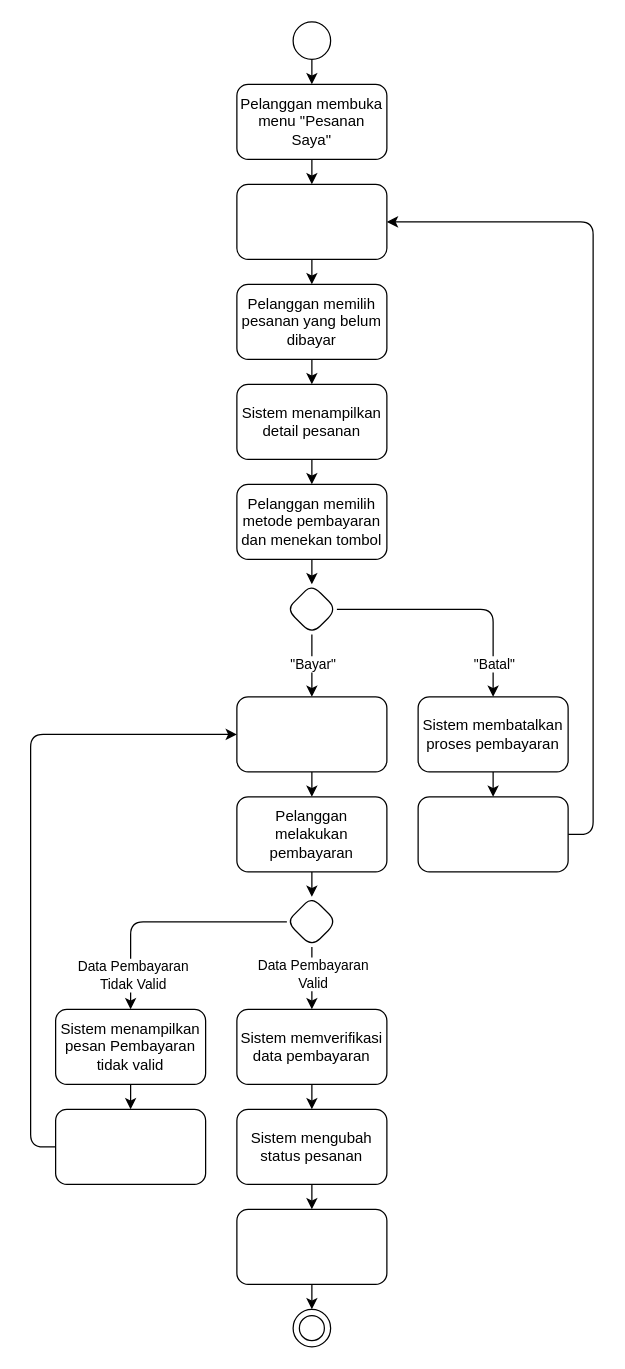
This 625x1369 diagram has some shape labels left out. Here are the shapes that lost their labels. From the top down, the centre of each, then its label:
the point at 311,221: Sistem menampilkan daftar pesanan beserta status
the point at 311,734: Sistem menampilkan form pembayaran sesuai metode
the point at 492,834: Sistem mengembalikan status pesanan
the point at 130,1146: Sistem meminta pelanggan memperbaiki data
the point at 311,1246: Sistem menampilkan pesan Pembayaran berhasil diproses
